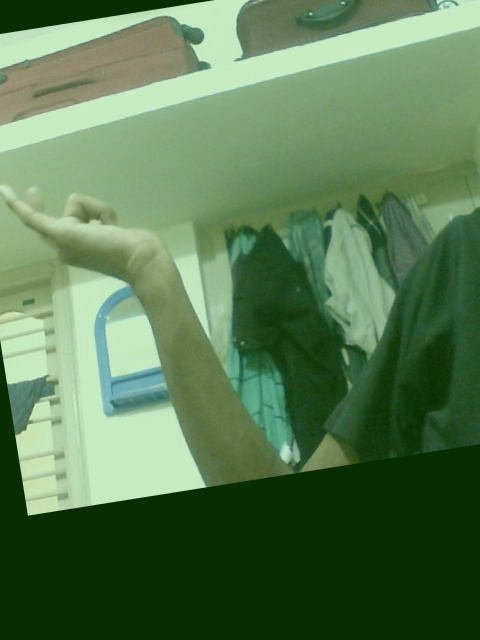hand: (1, 179, 177, 285)
